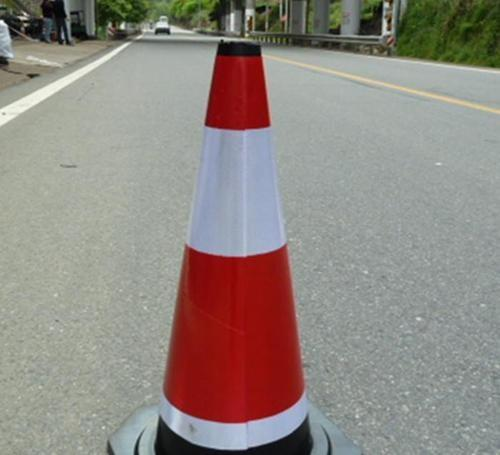cone_barrel: (142, 38, 323, 453)
